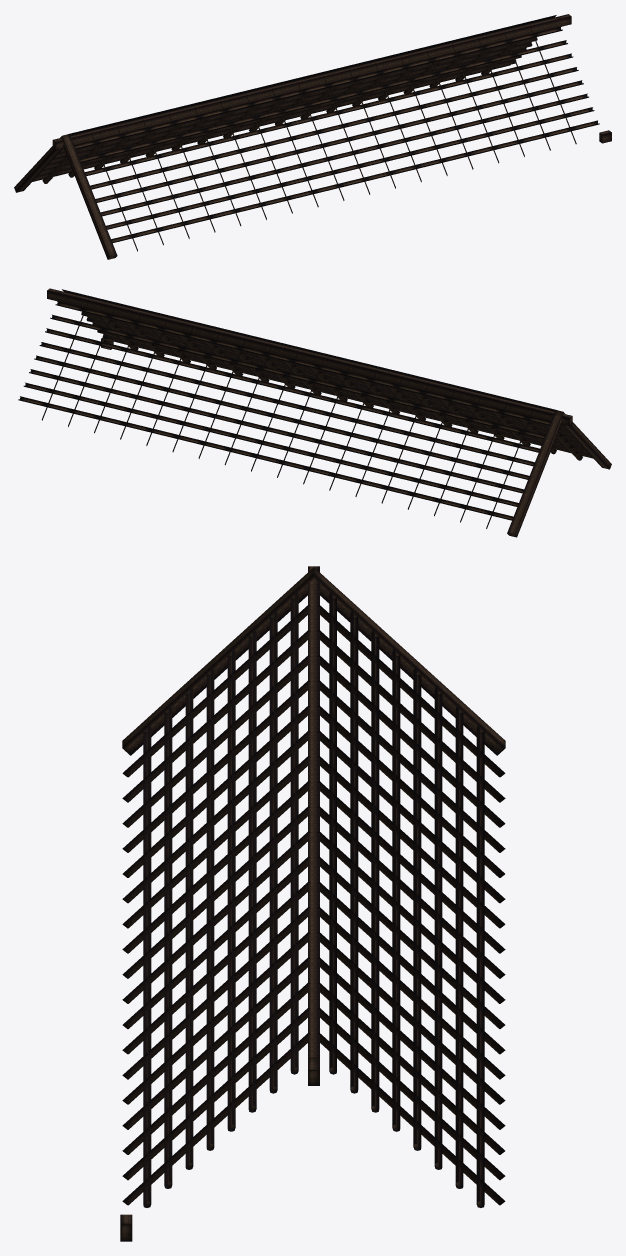
File: EnvBdgMD_Desert_A_TreasureRoom_Indoor_Ceiling.FBX
3 views of the same model, one above another, from view 1: azimuth 30°, elevation 25°; view 2: azimuth 150°, elevation 25°; view 3: azimuth 270°, elevation 25° (orthographic). The views are drawn at different scales.
Visible parts, largest first — view 1: EnvBdgMD_Desert_A_TreasureRoom_Indoor_Ceiling; view 2: EnvBdgMD_Desert_A_TreasureRoom_Indoor_Ceiling; view 3: EnvBdgMD_Desert_A_TreasureRoom_Indoor_Ceiling.
Part boxes in pixels (x1=…): EnvBdgMD_Desert_A_TreasureRoom_Indoor_Ceiling: x1=14, y1=14, x2=611, y2=259; EnvBdgMD_Desert_A_TreasureRoom_Indoor_Ceiling: x1=18, y1=288, x2=611, y2=537; EnvBdgMD_Desert_A_TreasureRoom_Indoor_Ceiling: x1=120, y1=566, x2=505, y2=1241.
Size of the model in its own units: 4000 by 686 by 1293.
